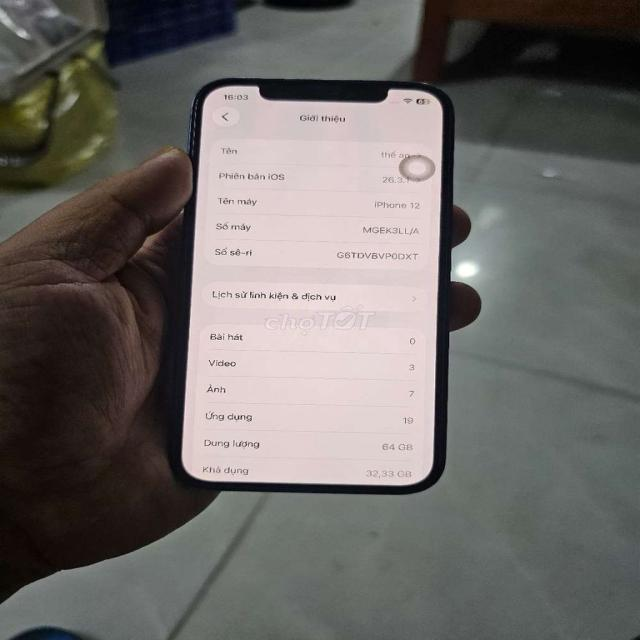gen_12_13: (165, 79, 457, 496)
